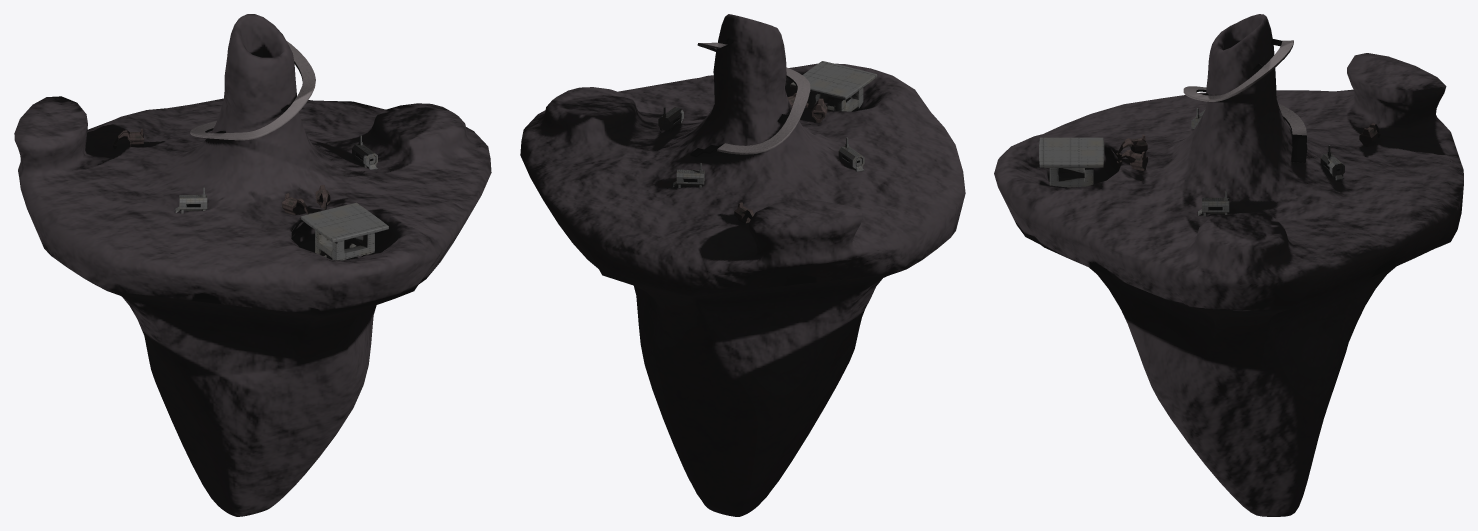
File: island_portfolio.glb
3 renders of one model, left to right at view 1: azimuth 30°, elevation 25°; view 2: azimuth 150°, elevation 25°; view 3: azimuth 270°, elevation 25°, orthographic.
Parts seen in each view (by area): view 1: asteroid, platform, stairs; view 2: asteroid, platform, stairs, spacehouse3; view 3: asteroid, platform, stairs.
Part boxes in pixels (bbox=[...]): asteroid: bbox=[14, 14, 491, 516]; platform: bbox=[301, 202, 388, 260]; stairs: bbox=[190, 41, 315, 140]; asteroid: bbox=[520, 14, 965, 516]; platform: bbox=[790, 61, 877, 111]; stairs: bbox=[690, 38, 810, 157]; spacehouse3: bbox=[673, 163, 704, 187]; asteroid: bbox=[994, 14, 1463, 516]; platform: bbox=[1039, 137, 1104, 187]; stairs: bbox=[1183, 39, 1307, 162].
Bounding box in the file's own units: 4.26 × 4.94 × 4.26.
Materials: 9 (9 with a texture image).
